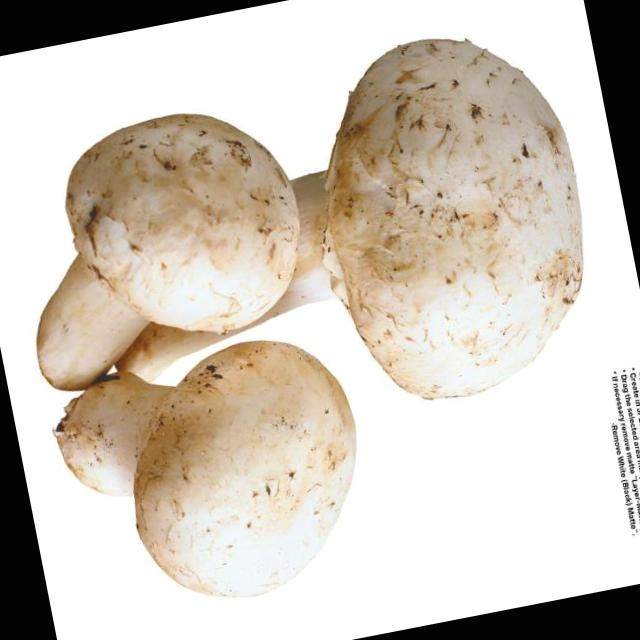Agaricus bisporus: (74, 15, 612, 459), (46, 325, 384, 626), (0, 99, 326, 400)
